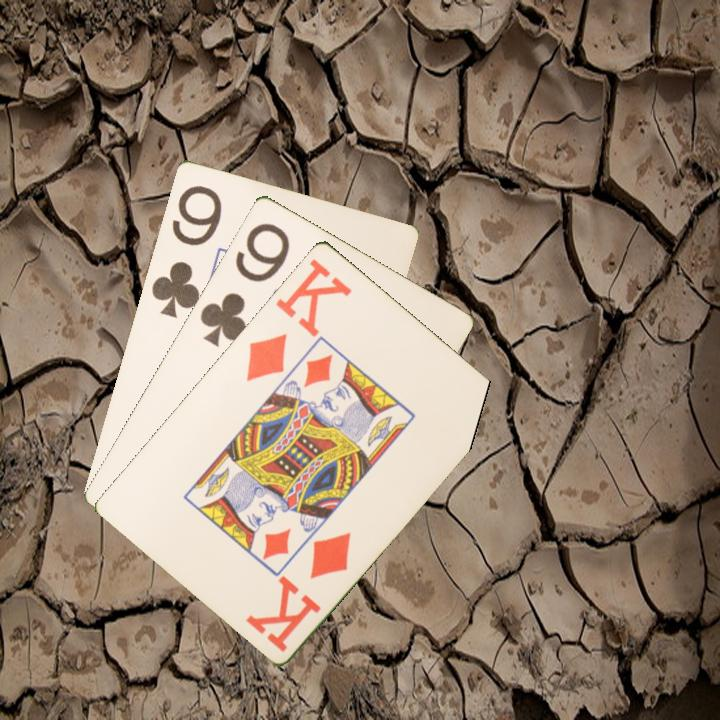9c: (196, 218, 293, 350), (147, 181, 225, 321)
Kd: (242, 254, 355, 384), (243, 528, 354, 655)
